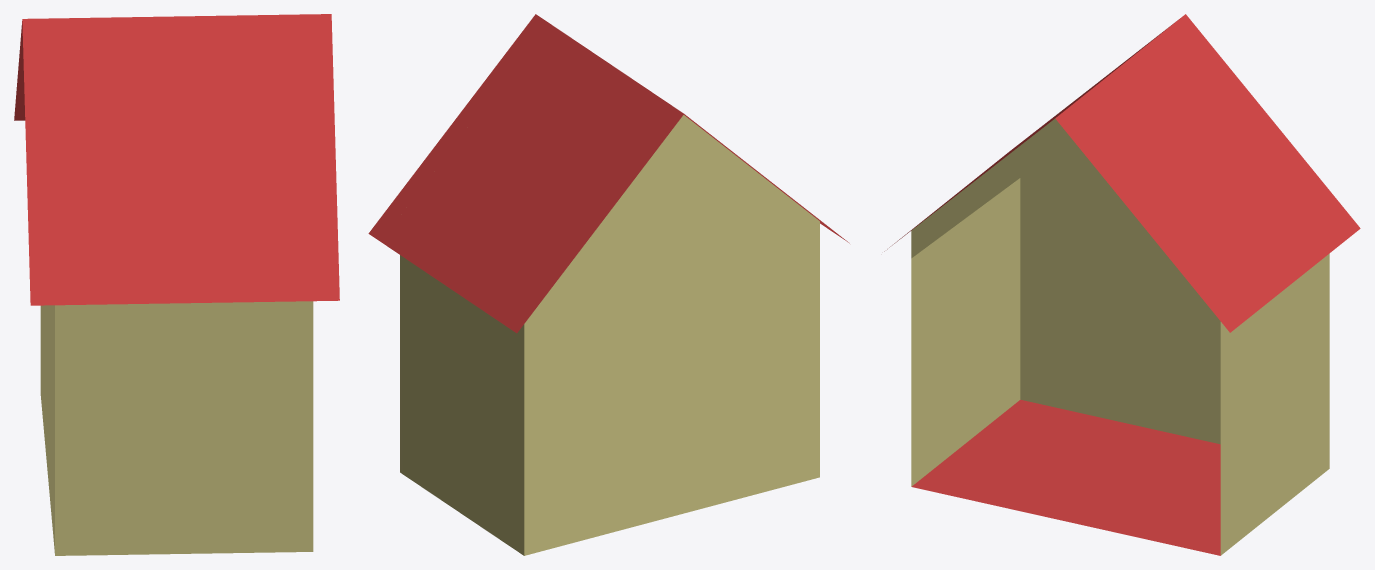
3 renders of one model, left to right at view 1: azimuth 30°, elevation 25°; view 2: azimuth 150°, elevation 25°; view 3: azimuth 270°, elevation 25°, orthographic. The views are drawn at different scales.
Bounding box in the file's own units: 14.09 × 15.67 × 14.82.
